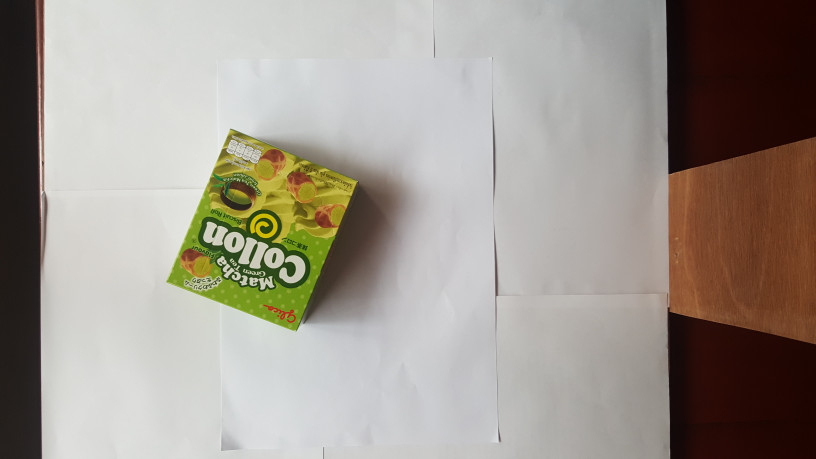collon-matcha: (159, 122, 360, 335)
